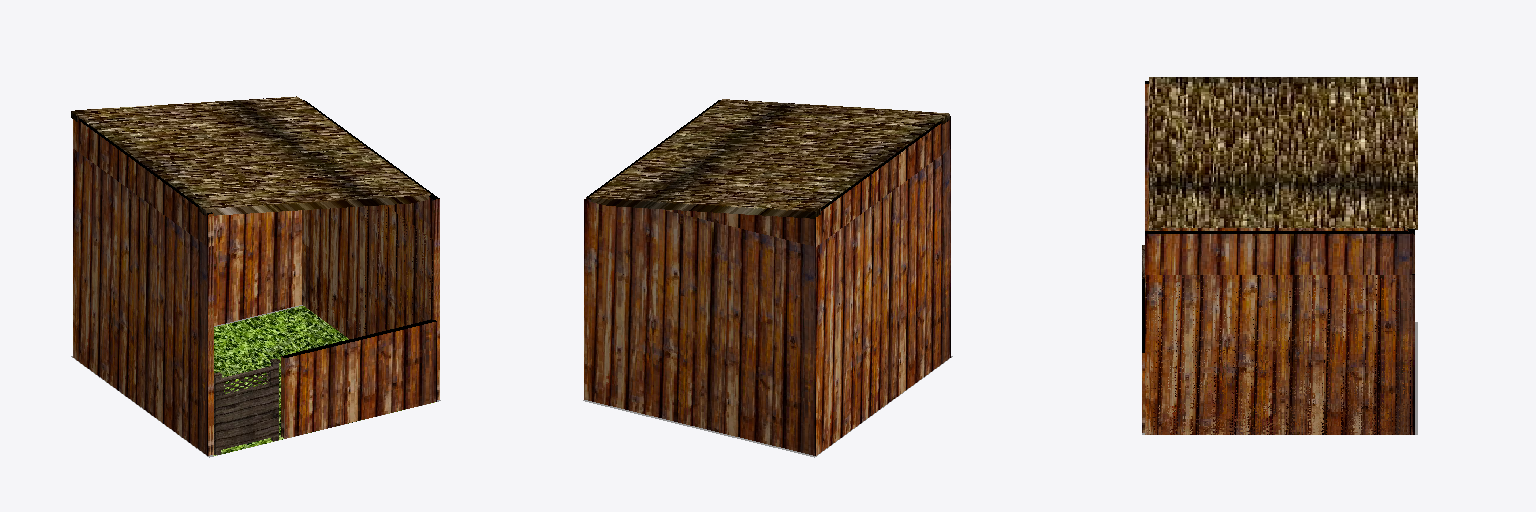
3 renders of one model, left to right at view 1: azimuth 30°, elevation 25°; view 2: azimuth 150°, elevation 25°; view 3: azimuth 270°, elevation 25°, orthographic.
Visible parts, largest first — view 1: polySurface3; view 2: polySurface3; view 3: polySurface3.
Part boxes in pixels (x1,y1,x2,y2): polySurface3: (71, 96, 440, 457); polySurface3: (583, 99, 952, 457); polySurface3: (1142, 77, 1417, 434).
Size of the model in its own units: 14.82 by 14.95 by 15.29.
Materials: 7 (4 with a texture image).